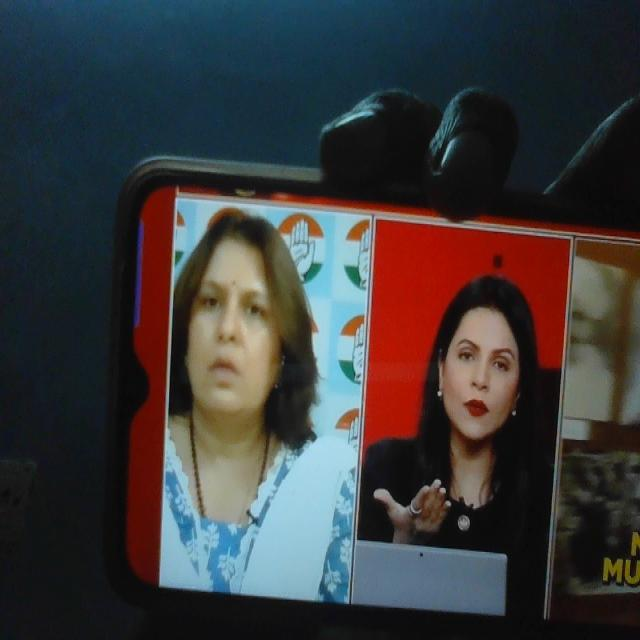fake: (179, 208, 294, 425), (427, 249, 539, 462)
